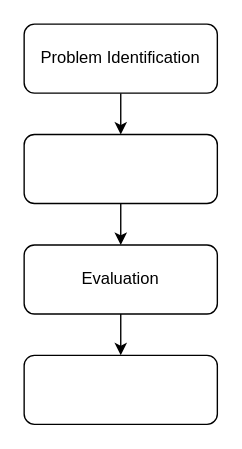
Some shapes in this 242 by 449 pixel diagram are drawn without their labels. Here are the shapes that lost their labels. From the top down, the centre of each, then its label:
At [120,168]: "Intervention".
At [120,389]: "Reflection and Learning".
